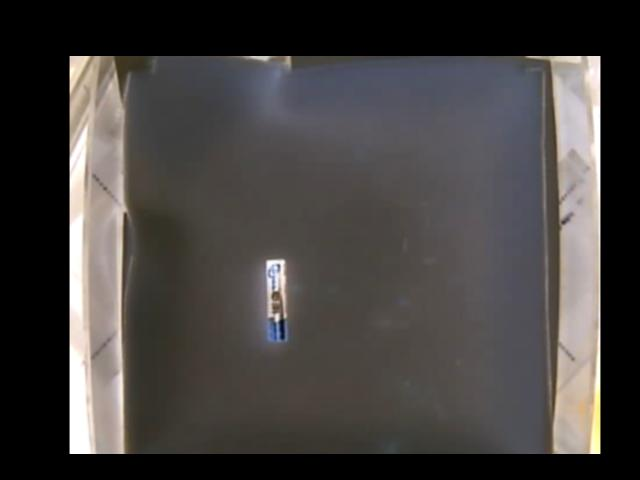Battery: (263, 259, 291, 344)
